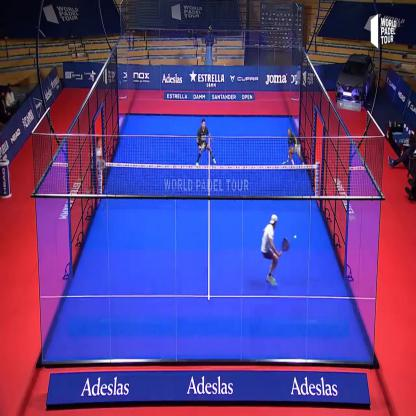ball: (292, 232, 300, 245)
